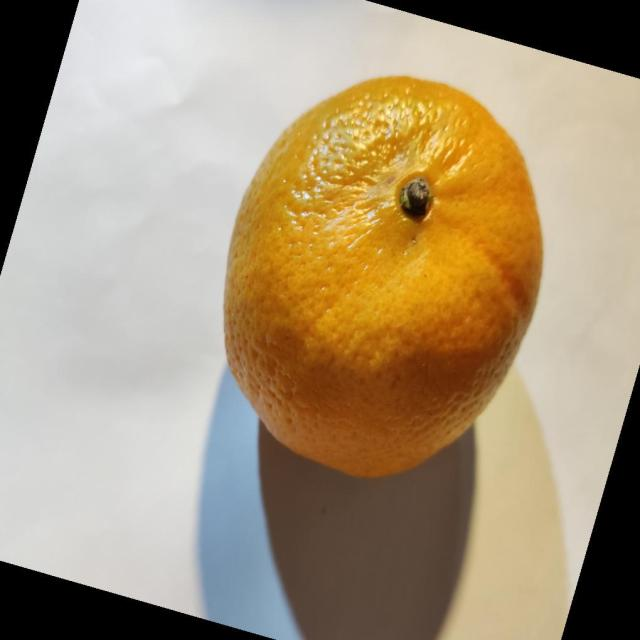fresh orange: (222, 74, 544, 479)
